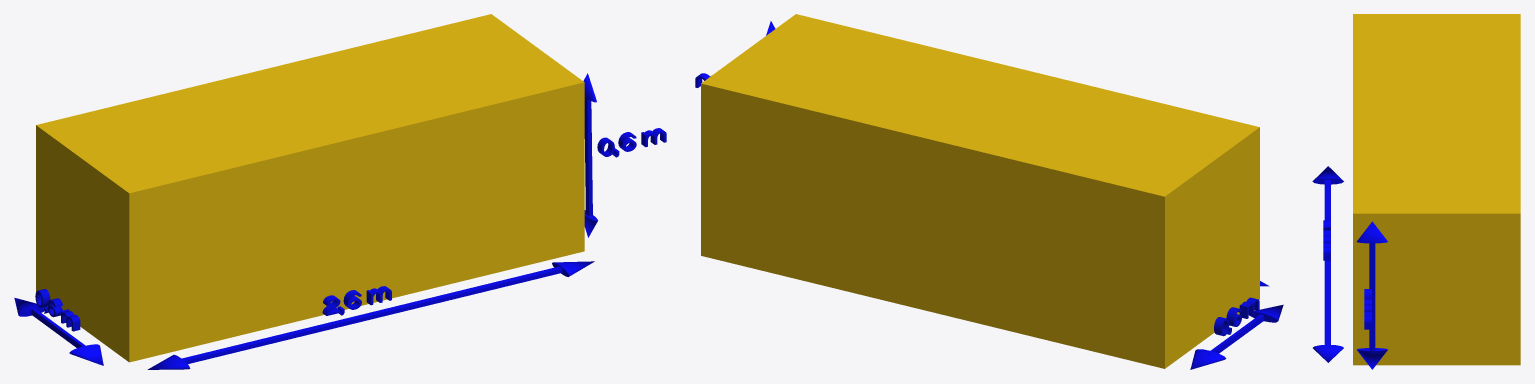
Rendered from asset.glb.
The picture shows the model from 3 angles, left to right: view 1: azimuth 30°, elevation 25°; view 2: azimuth 150°, elevation 25°; view 3: azimuth 270°, elevation 25°; orthographic projection. The views are drawn at different scales.
Parts seen in each view (by area): view 1: Box, Box1, Text, Text1, Box2, Text2; view 2: Box, Text2, Box3; view 3: Box, Box1, Box2, Cone2, Cone6, Cone, Text, Text1, Cone1.
Part boxes in pixels (x1,y1,x2,y2): Box: (36, 14, 584, 362); Box1: (182, 266, 562, 363); Text: (322, 286, 391, 315); Text1: (597, 128, 666, 157); Box2: (584, 97, 592, 216); Text2: (35, 289, 80, 331); Box: (701, 14, 1259, 368); Text2: (1214, 297, 1259, 336); Box3: (1207, 314, 1264, 354); Box: (1353, 14, 1520, 365); Box1: (1324, 179, 1330, 344); Box2: (1369, 243, 1375, 350); Cone2: (1356, 221, 1387, 243); Cone6: (1356, 348, 1387, 369); Cone: (1313, 344, 1343, 362); Text: (1323, 220, 1330, 260); Text1: (1364, 289, 1371, 329); Cone1: (1312, 166, 1343, 184).
Bounding box in the file's own units: 6.23 × 1.75 × 2.15.
